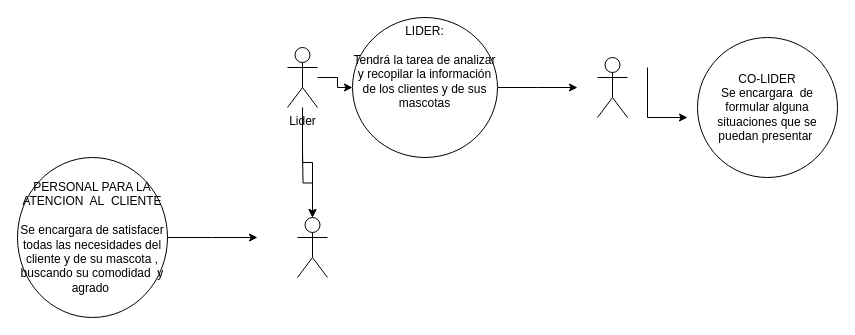
The diagram is 855 pixels wide and 335 high, and some of its shapes have lost their labels. Here are the shapes that lost their labels. From the top down, the box of each, then its label:
(596, 56, 628, 118): Co-lider
(296, 216, 328, 278): Personal para la atención al cliente
